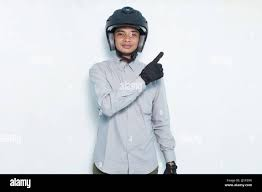helmets: (105, 6, 148, 52)
